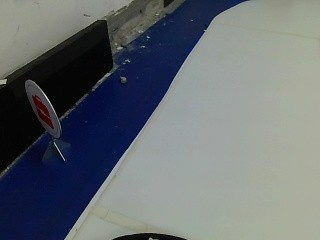company: (23, 77, 61, 140)
